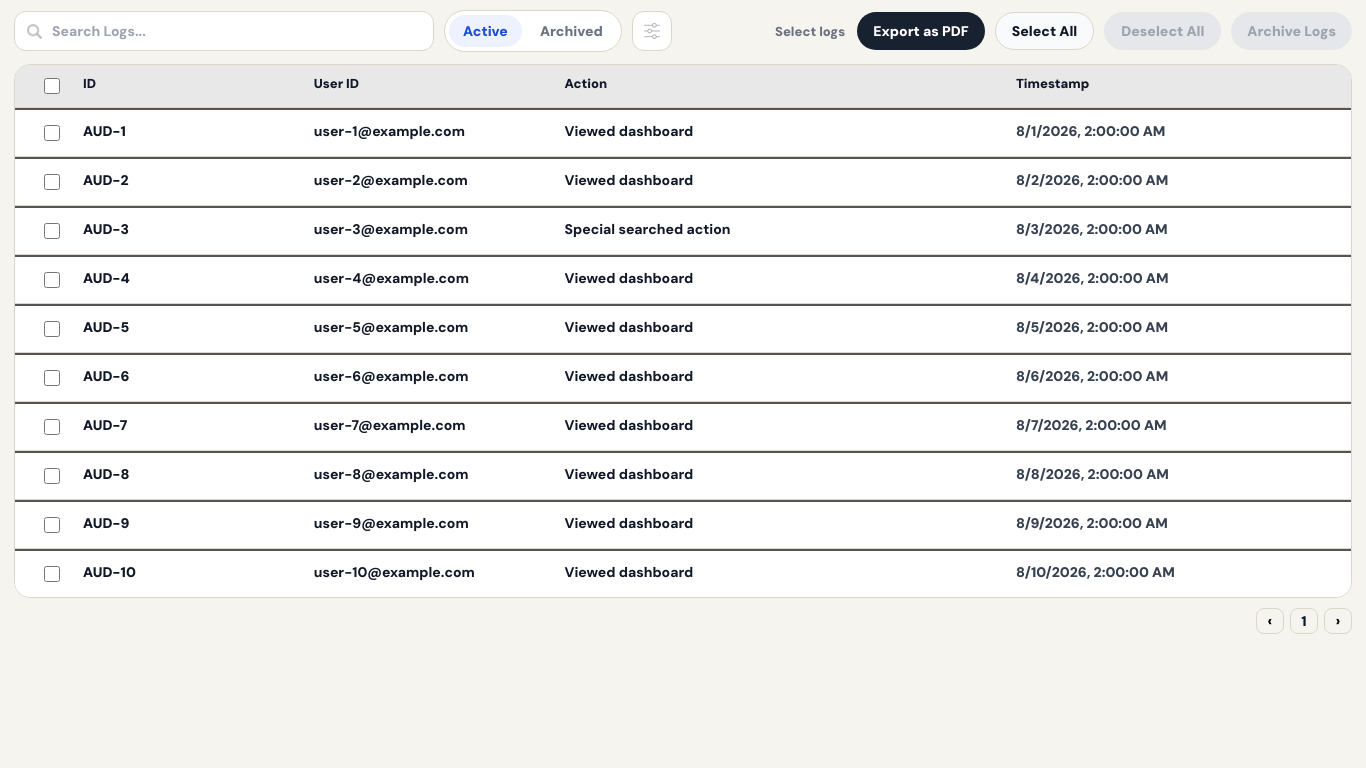
Test: AdminAuditLogs selection › tab changes clear selection so active and archived IDs cannot contaminate each other
Click the checkbox named "Select audit log AUD-1".
click(52, 133)  # box 44,125 -> 60,141
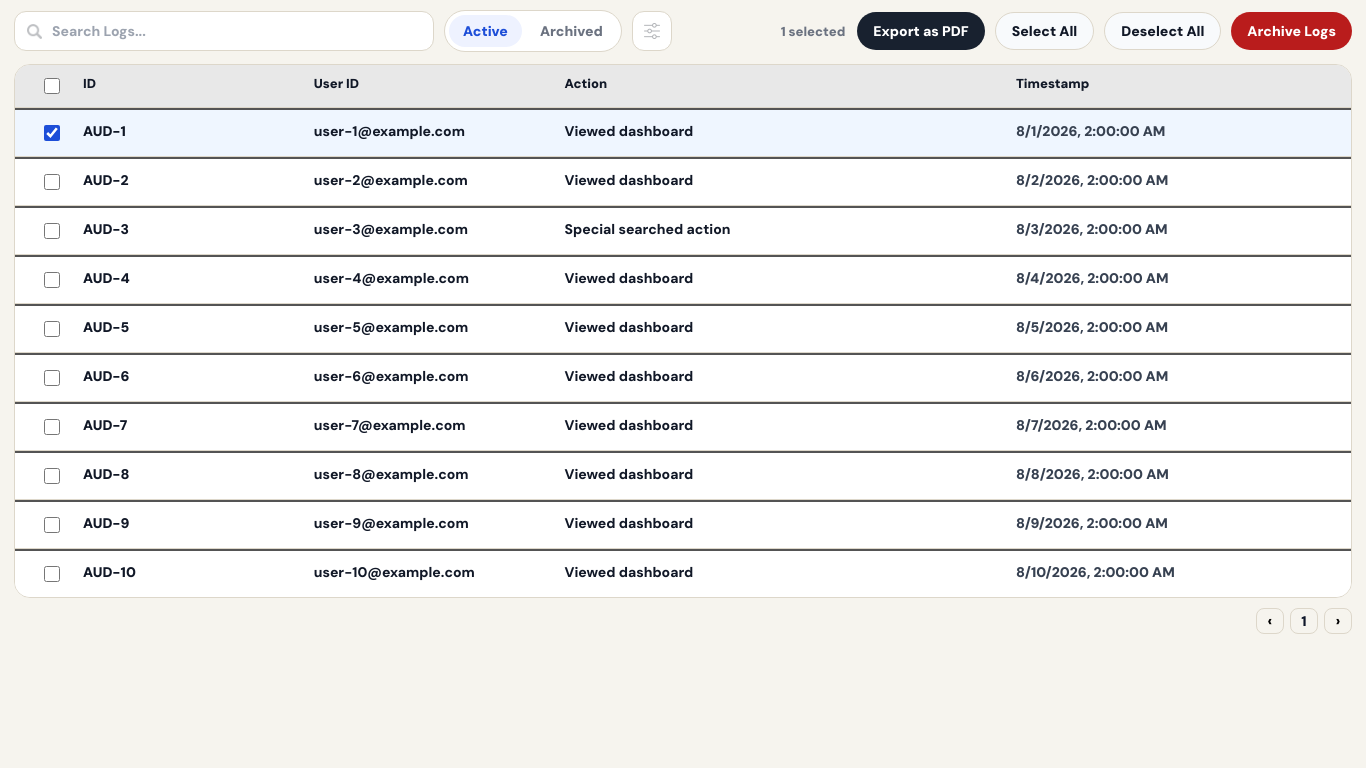
Check: the text "1 selected" is shown, box 781,22 -> 845,40
Click the button "Archived".
click(571, 31)  # box 526,15 -> 617,47
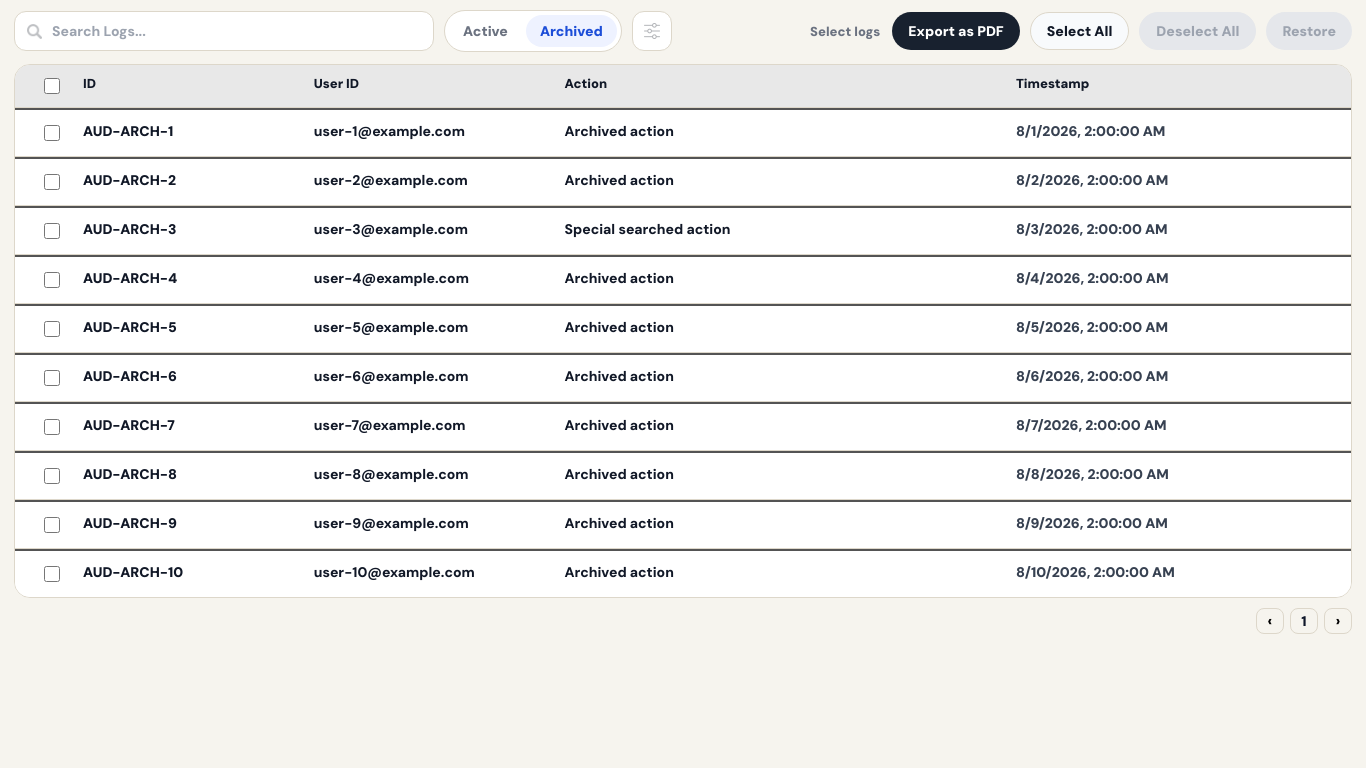
Check: the text "Select logs" is shown, box 810,22 -> 880,40
Check: the button "Restore" is disabled, box 1266,12 -> 1352,50
